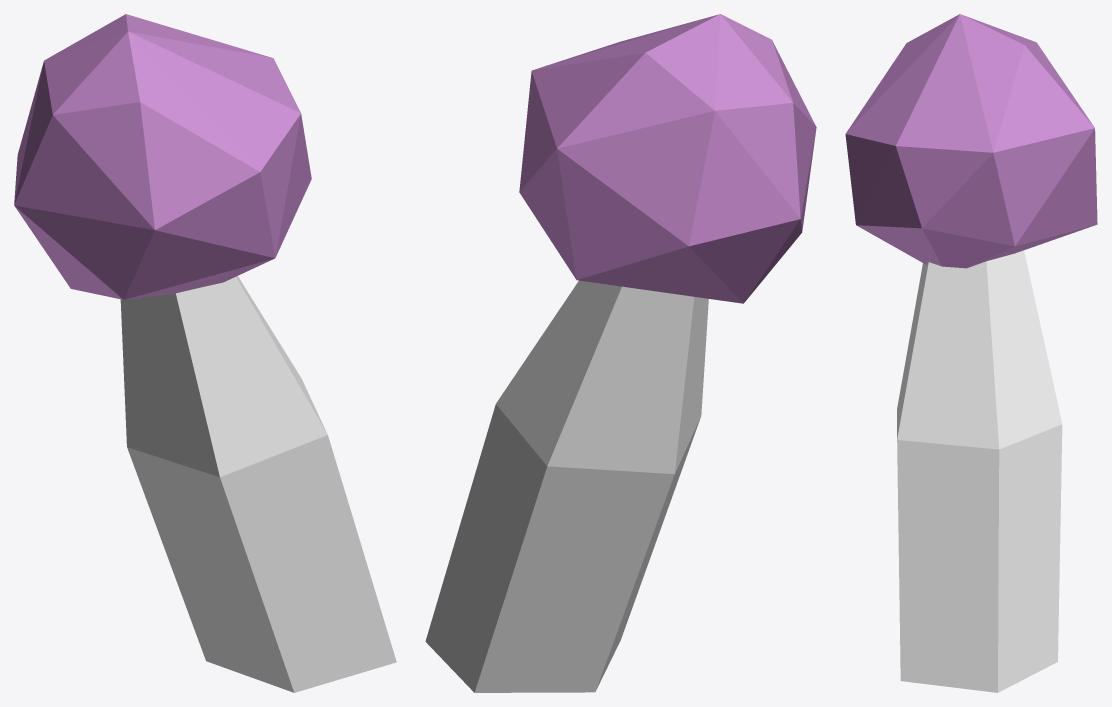
The model's file is Mushroom_k_05.fbx.
3 renders of one model, left to right at view 1: azimuth 30°, elevation 25°; view 2: azimuth 150°, elevation 25°; view 3: azimuth 270°, elevation 25°, orthographic. The views are drawn at different scales.
Visible parts, largest first — view 1: Mushroom_k_05; view 2: Mushroom_k_05; view 3: Mushroom_k_05.
Part boxes in pixels (x1,y1,x2,y2): Mushroom_k_05: (14, 14, 396, 692); Mushroom_k_05: (425, 14, 816, 692); Mushroom_k_05: (845, 14, 1097, 692).
Bounding box in the file's own units: 0.1202 × 0.2127 × 0.0845.
